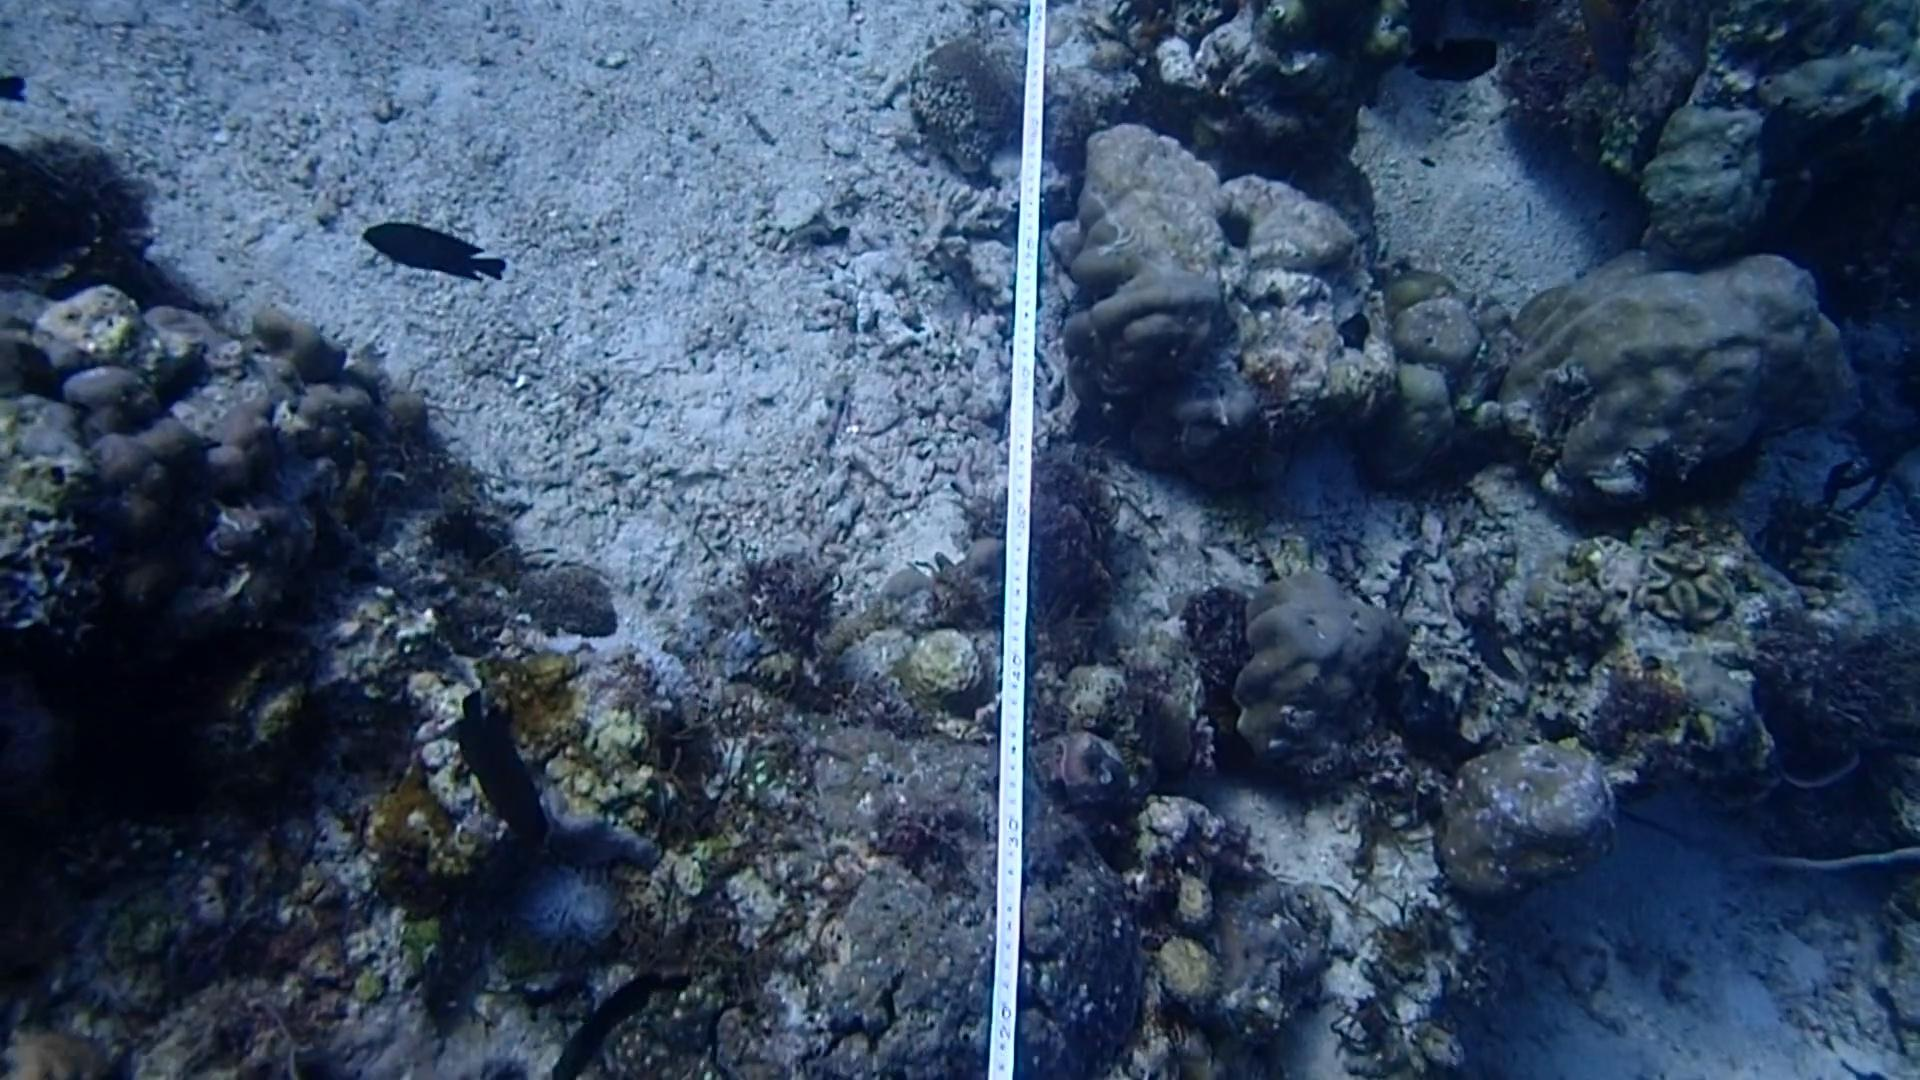Dark Fish: (436, 680, 550, 844), (533, 964, 676, 1080), (352, 204, 516, 299), (1395, 21, 1505, 94)
